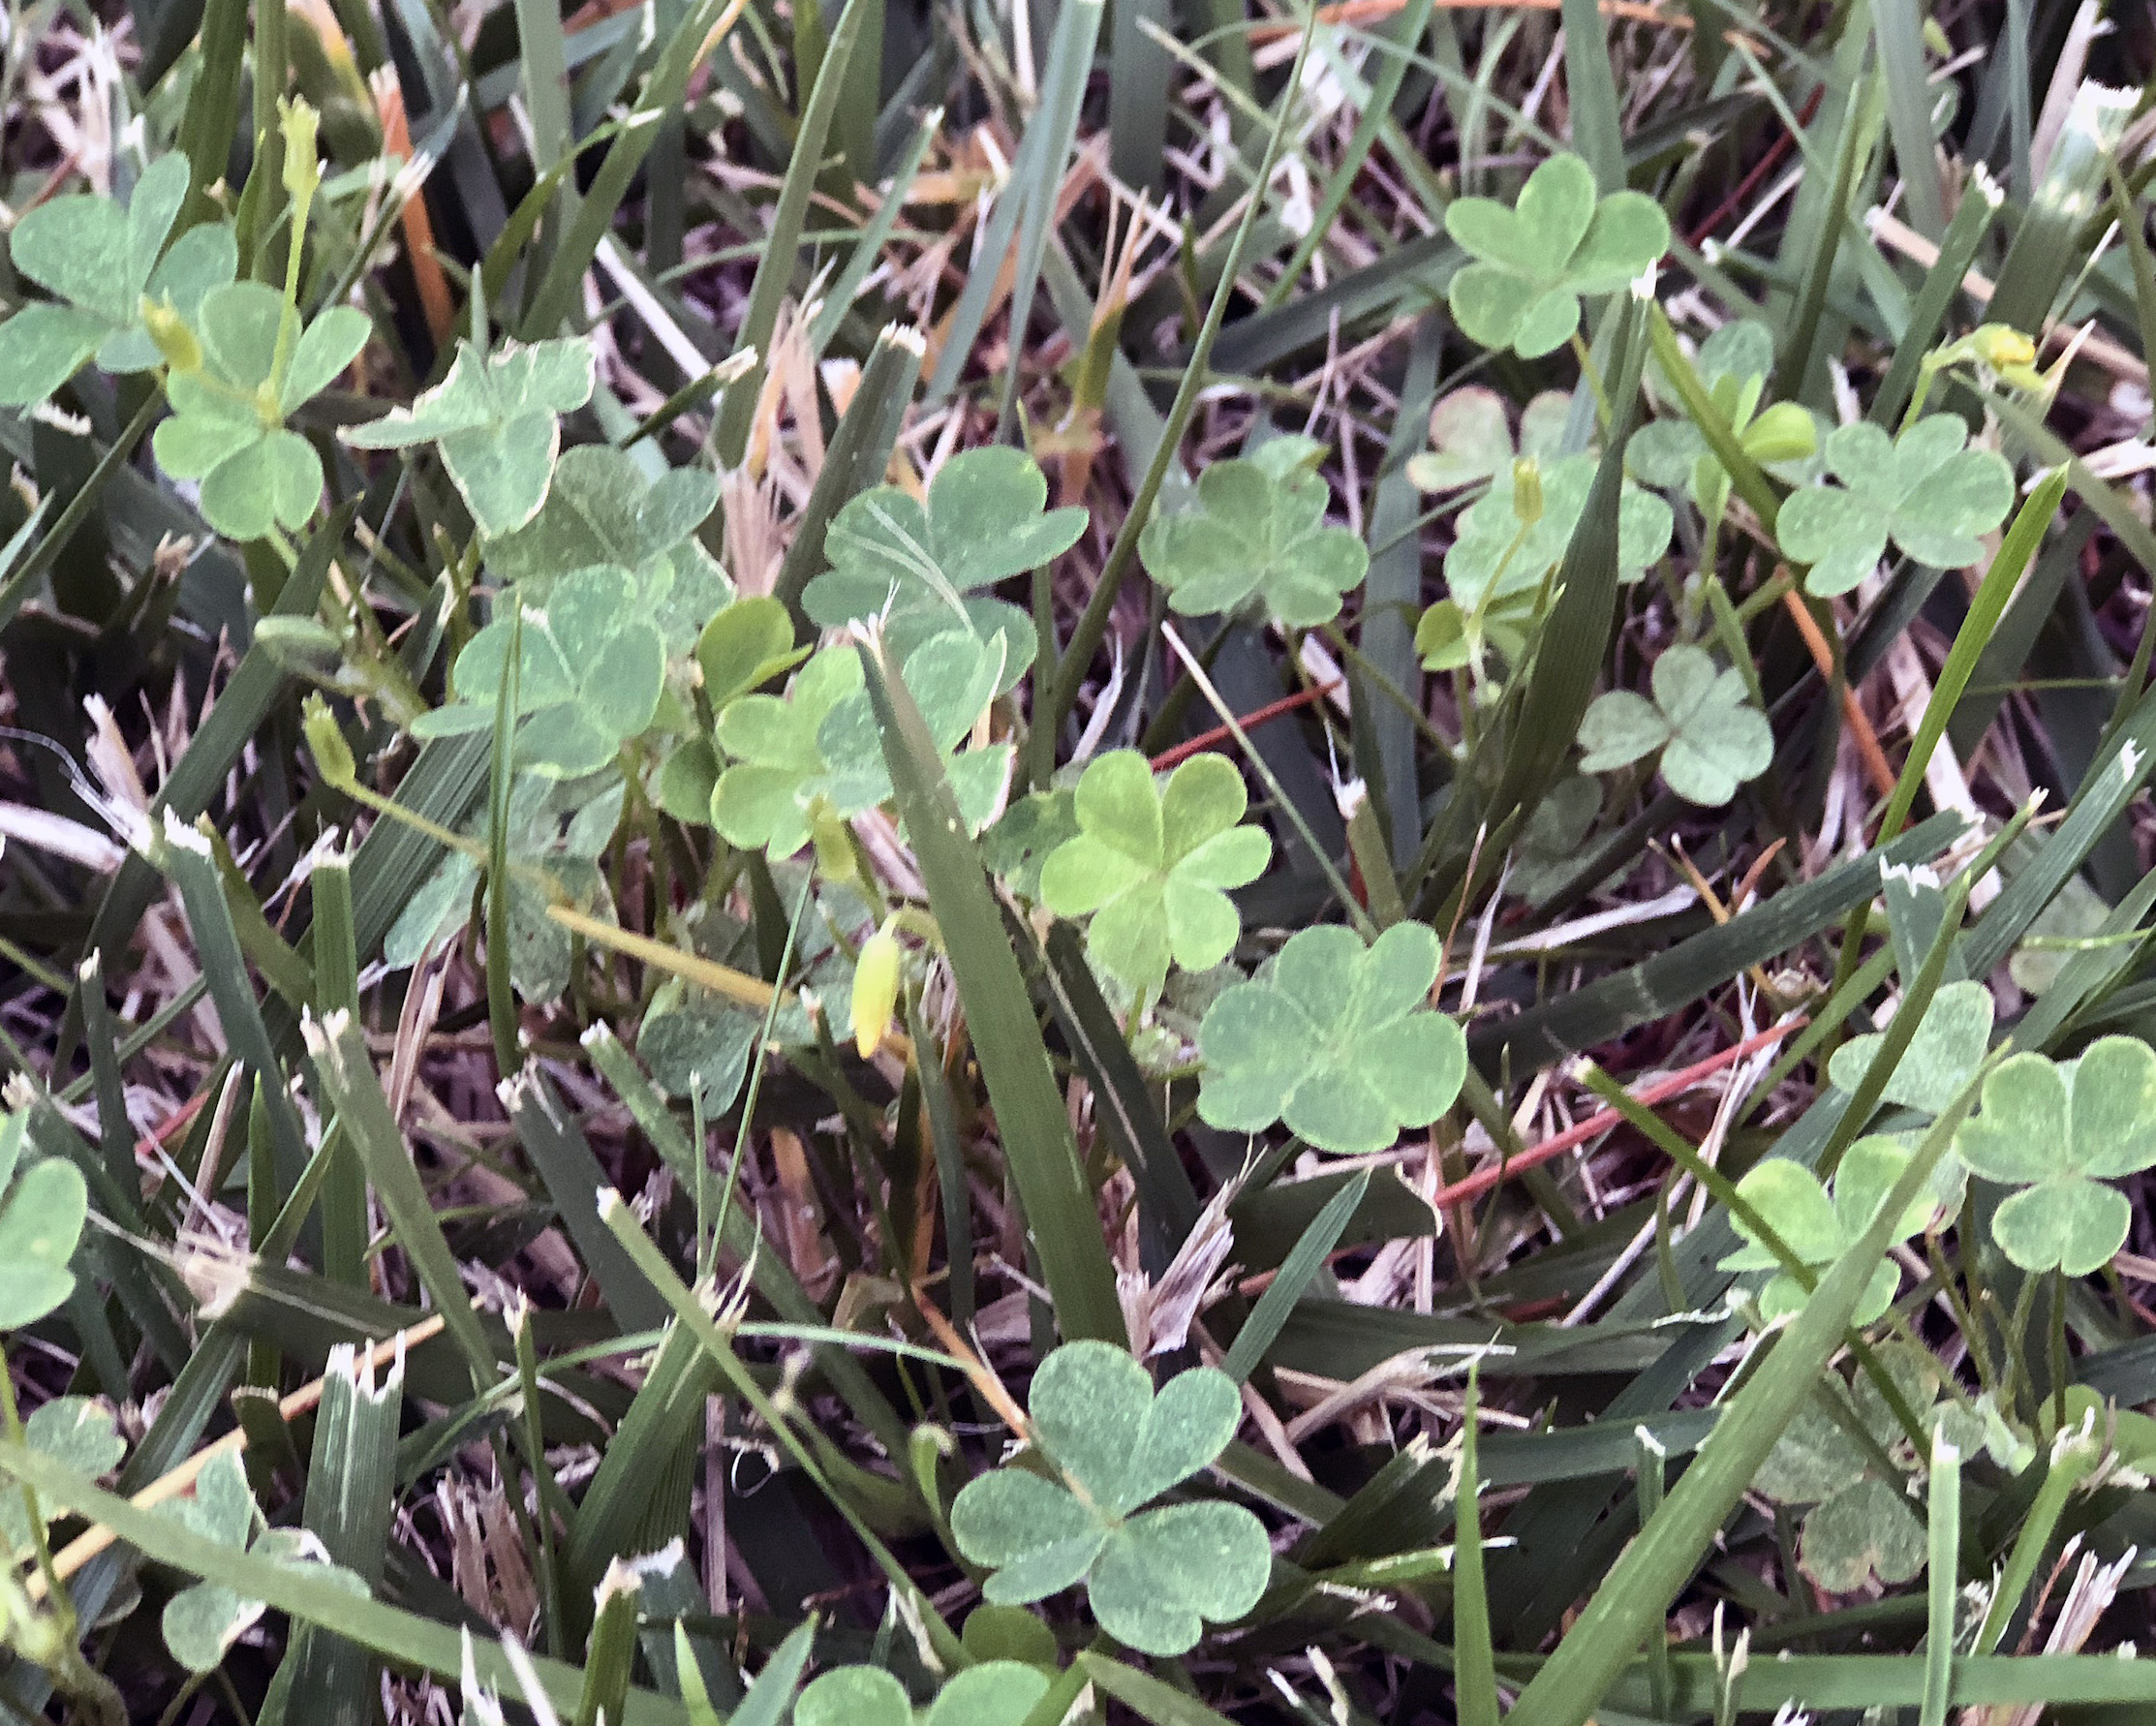oxalis: (296, 319, 1606, 1157)
